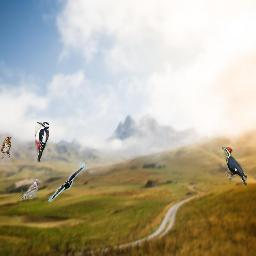Crow: (48, 162, 85, 202)
Sparrow: (21, 179, 38, 199), (1, 136, 12, 159)
Woodpecker: (222, 147, 247, 187), (35, 122, 49, 162)
